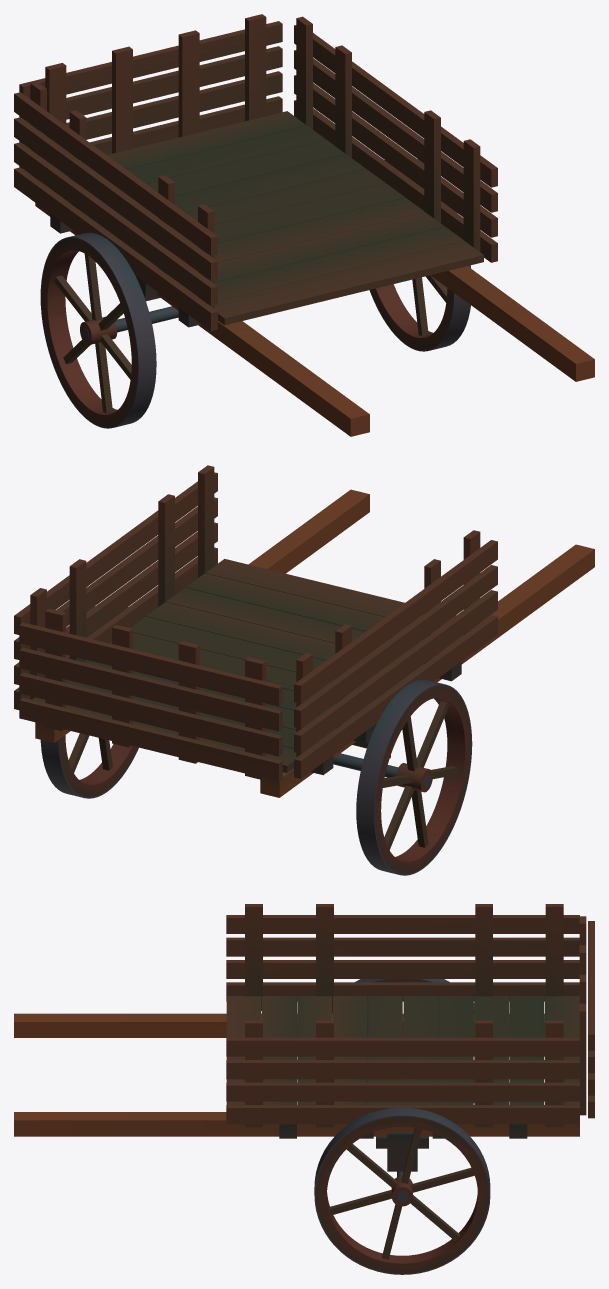
3 renders of one model, top to bottom at view 1: azimuth 30°, elevation 25°; view 2: azimuth 150°, elevation 25°; view 3: azimuth 270°, elevation 25°, orthographic. The views are drawn at different scales.
Parts seen in each view (by area): view 1: floor_board.001, wood_rim.001, shaft.003, shaft, slat.005, slat.006, slat.007, floor_board.002, slat.004, floor_board.003, iron_tire.001, floor_board.004 (+30 smaller); view 2: wood_rim.001, end_slat.002, end_slat.001, end_slat, end_slat.003, slat.005, slat.006, slat.007, slat.004, shaft.003, iron_tire.001, shaft (+28 smaller); view 3: shaft, slat.001, slat.002, slat.003, wood_rim, slat, slat.006, shaft.003, slat.005, slat.007, slat.004, iron_tire (+26 smaller).
Boxes of the visible parts, x1,y1,x2,y2 form: floor_board.001: [214, 241, 483, 325]; wood_rim.001: [41, 238, 137, 426]; shaft.003: [35, 203, 369, 436]; shaft: [430, 266, 594, 381]; slat.005: [14, 142, 217, 305]; slat.006: [14, 117, 217, 280]; slat.007: [14, 92, 217, 255]; floor_board.002: [188, 226, 463, 300]; slat.004: [14, 167, 217, 330]; floor_board.003: [175, 212, 444, 289]; iron_tire.001: [40, 232, 156, 428]; floor_board.004: [148, 197, 424, 268]; wood_rim.001: [375, 685, 471, 874]; end_slat.002: [19, 647, 282, 731]; end_slat.001: [19, 672, 282, 756]; end_slat: [19, 697, 282, 781]; end_slat.003: [19, 622, 282, 706]; slat.005: [294, 590, 497, 753]; slat.006: [294, 565, 497, 728]; slat.007: [294, 540, 497, 703]; slat.004: [294, 615, 497, 778]; shaft.003: [260, 544, 594, 797]; iron_tire.001: [356, 679, 472, 875]; shaft: [35, 489, 369, 742]; shaft: [14, 1112, 579, 1136]; slat.001: [226, 1082, 579, 1101]; slat.002: [226, 1060, 579, 1079]; slat.003: [226, 1037, 579, 1056]; wood_rim: [316, 1116, 488, 1273]; slat: [226, 1105, 579, 1124]; slat.006: [226, 937, 579, 956]; shaft.003: [14, 1013, 544, 1037]; slat.005: [226, 960, 579, 978]; slat.007: [226, 915, 579, 933]; slat.004: [226, 982, 579, 1001]; iron_tire: [314, 1107, 490, 1274].
Bounding box in the file's own units: 0.913 × 0.678 × 1.5.
